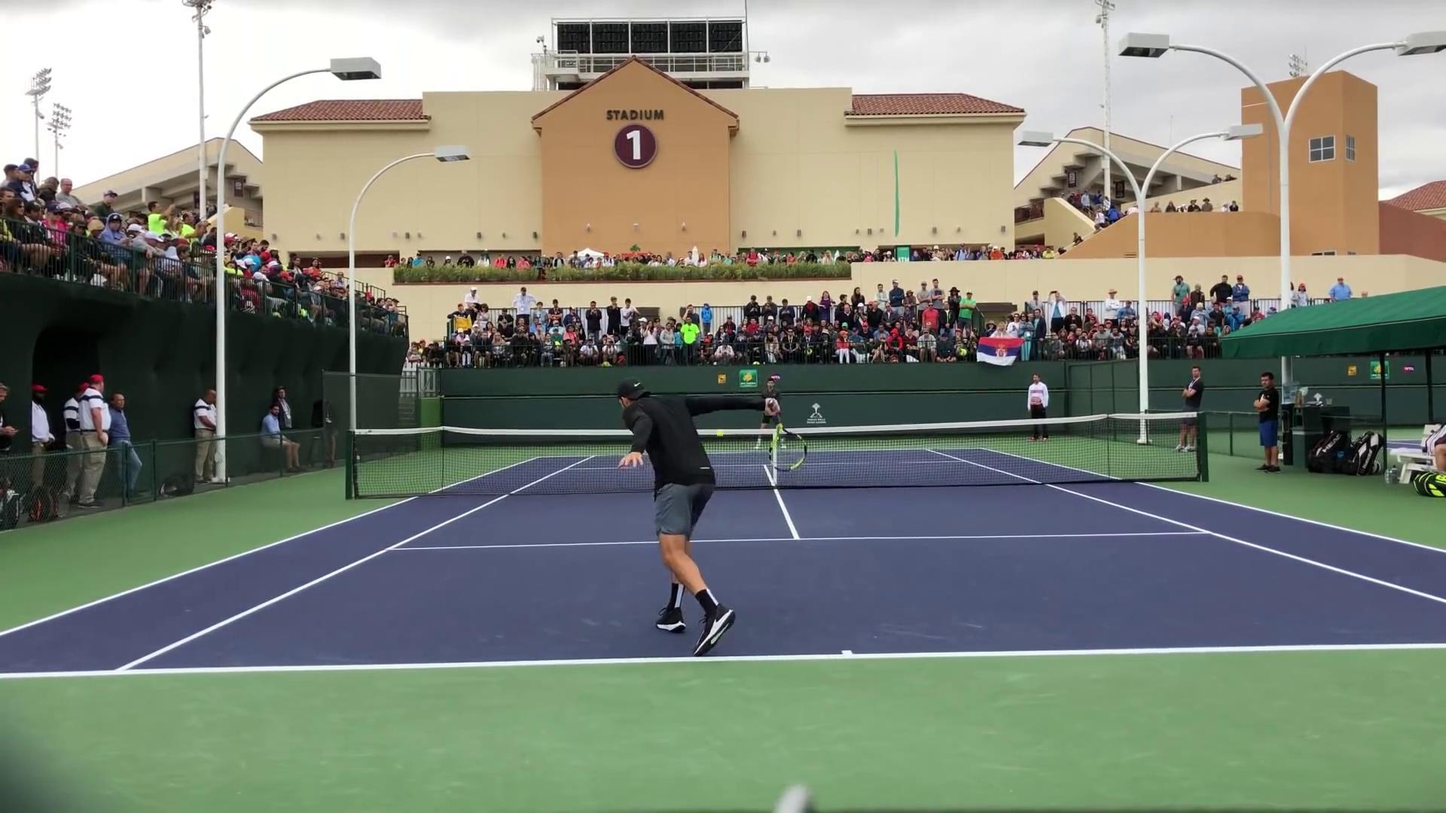ball: (714, 430, 724, 437)
